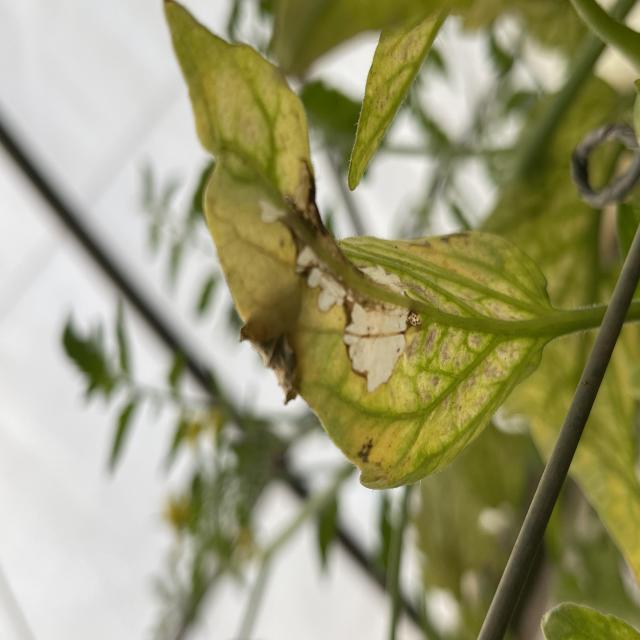Tuta absoluta: (338, 302, 409, 395), (302, 259, 350, 314), (359, 258, 410, 298)
